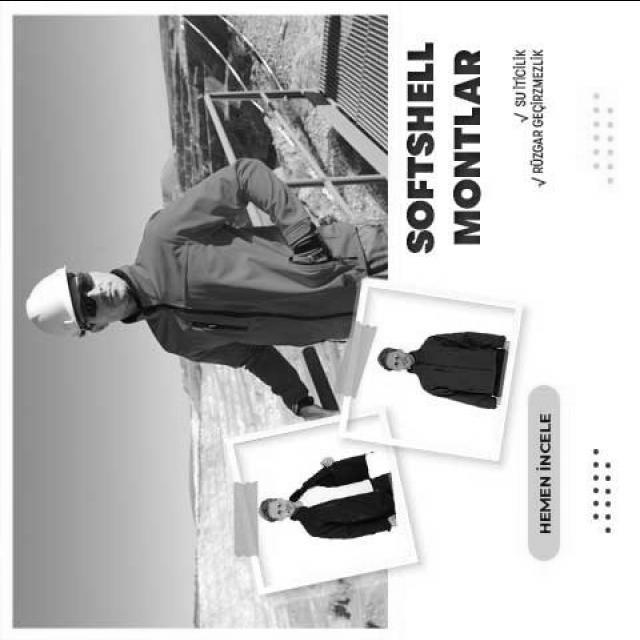safety_helmet: (27, 267, 89, 340)
